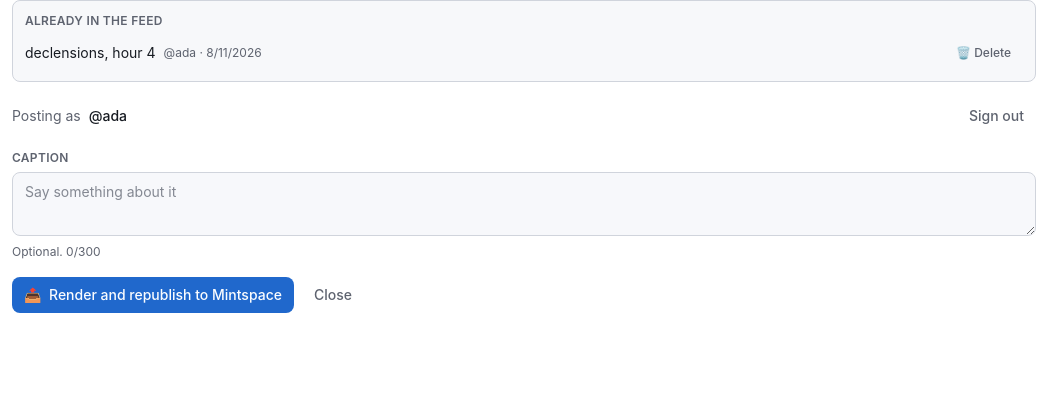
it: videos this project is already up as › refuses to post the same file a second time
Click the button "📤 Render and republish to Mintspace" at [153, 295], box 12,277 -> 294,313
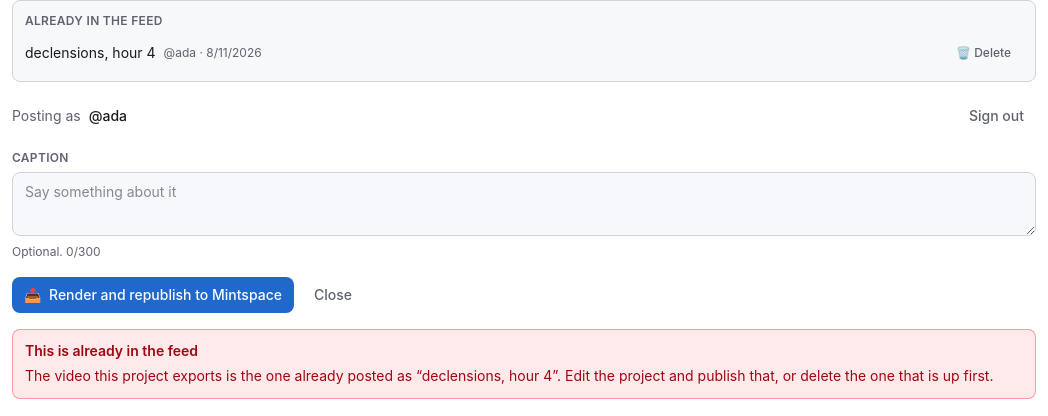
Check: the text "the one already posted" is shown, box 25,367 -> 993,384
